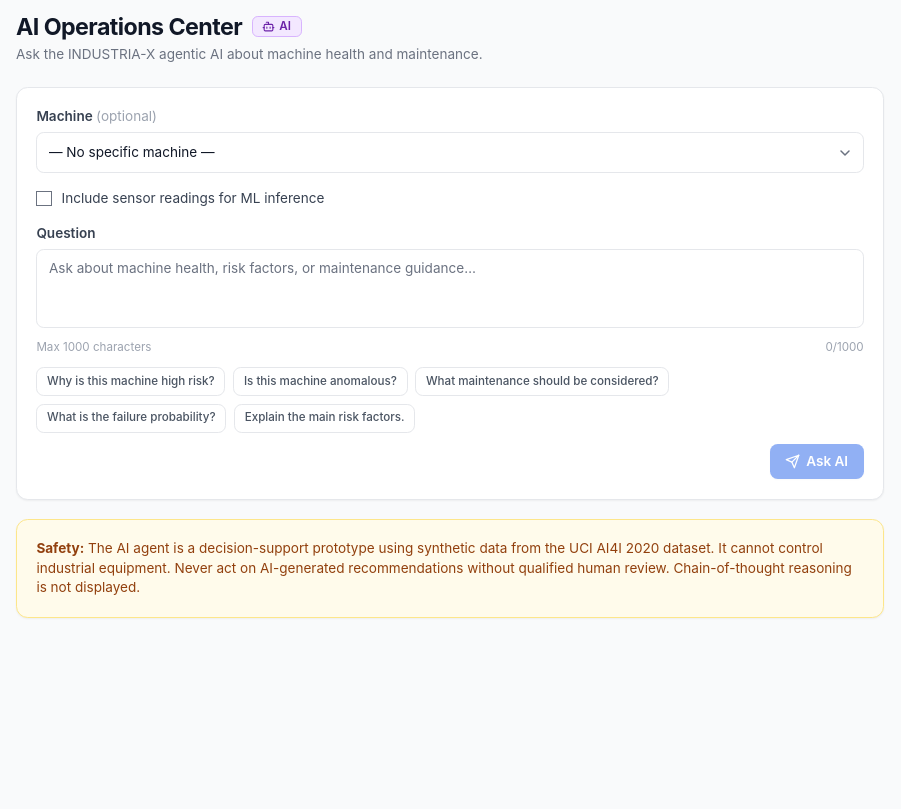
Scenario: AIOperationsPage — query submission › displays answer after successful query
Type "What is the risk?" into the text box named "AI query" at (450, 288), box [36,249,864,328]
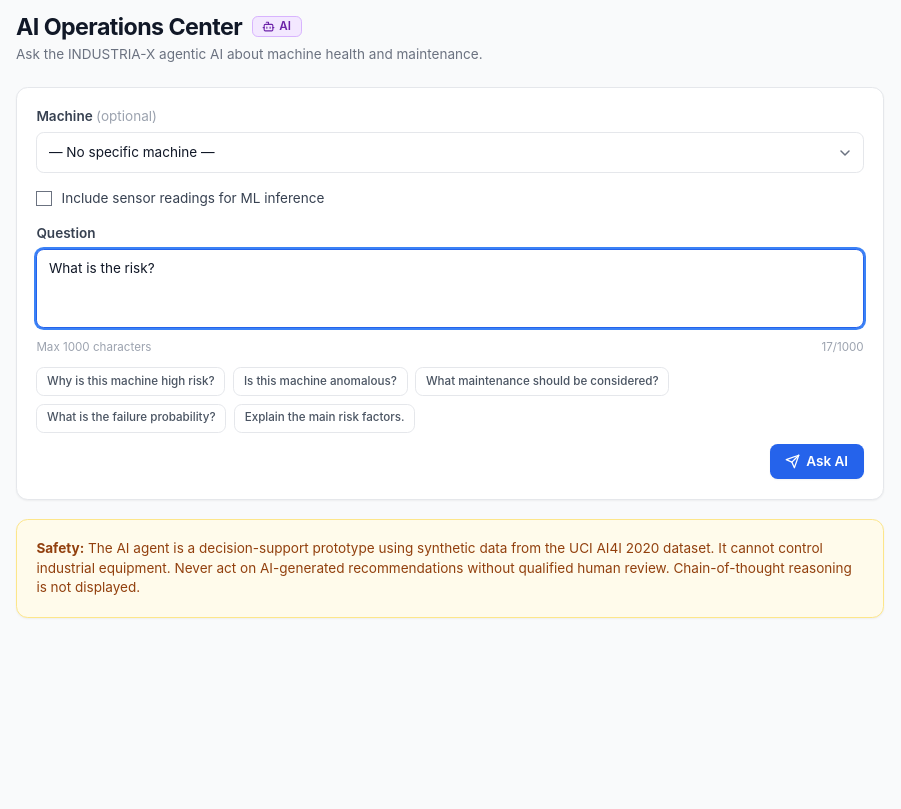
Click the button "Ask AI" at (817, 462), box [770,444,864,479]
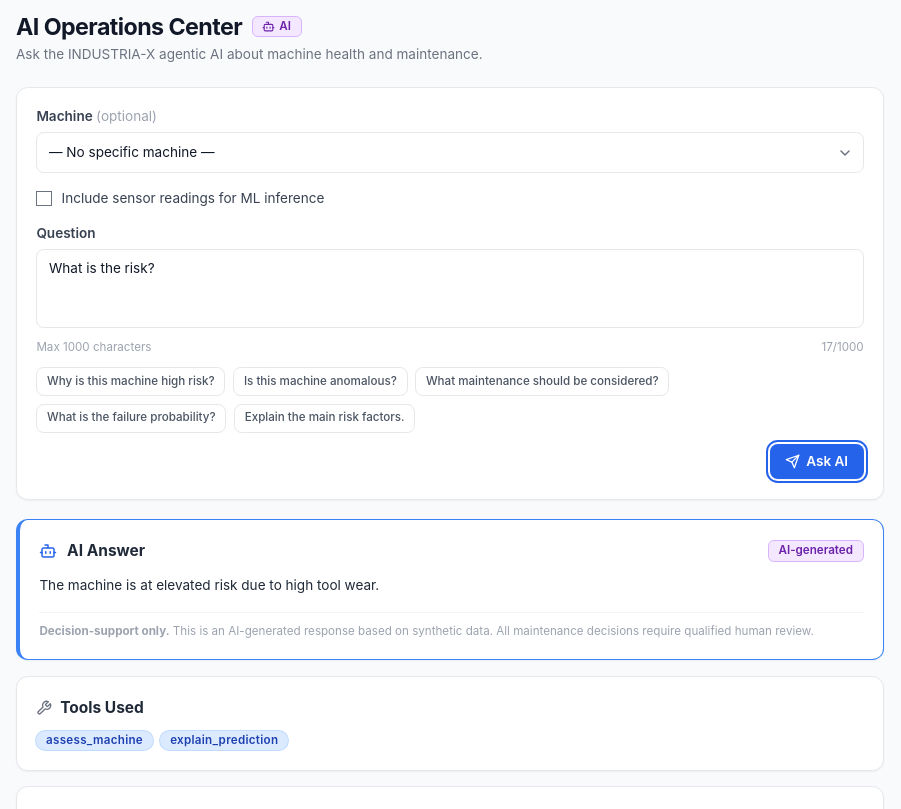
Expected: the text "The machine is at elevated risk due to high tool wear." is shown, [39,577,379,593]
